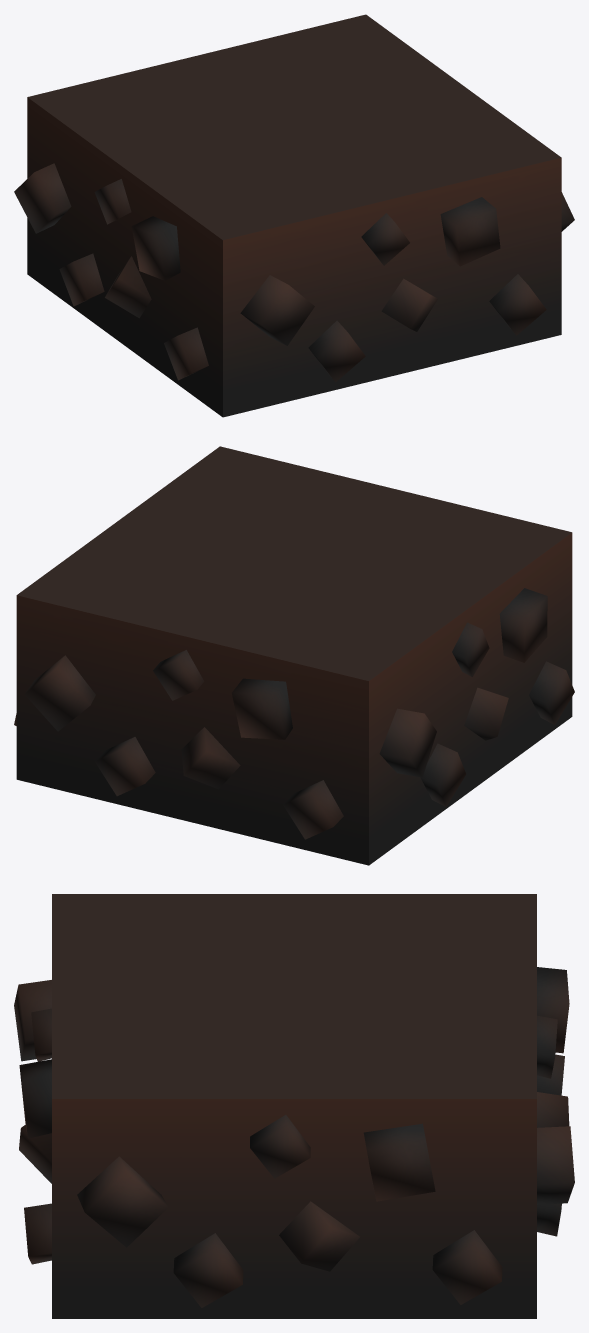
The model's file is m_Brownie02_Slice03.fbx.
The picture shows the model from 3 angles, top to bottom: view 1: azimuth 30°, elevation 25°; view 2: azimuth 150°, elevation 25°; view 3: azimuth 270°, elevation 25°; orthographic projection. The views are drawn at different scales.
Parts seen in each view (by area): view 1: m_Brownie02_Slice03; view 2: m_Brownie02_Slice03; view 3: m_Brownie02_Slice03.
Part boxes in pixels (bbox=[...]): m_Brownie02_Slice03: bbox=[14, 14, 574, 417]; m_Brownie02_Slice03: bbox=[14, 446, 574, 865]; m_Brownie02_Slice03: bbox=[14, 894, 574, 1318].
Bounding box in the file's own units: 11.57 × 5 × 11.57.
